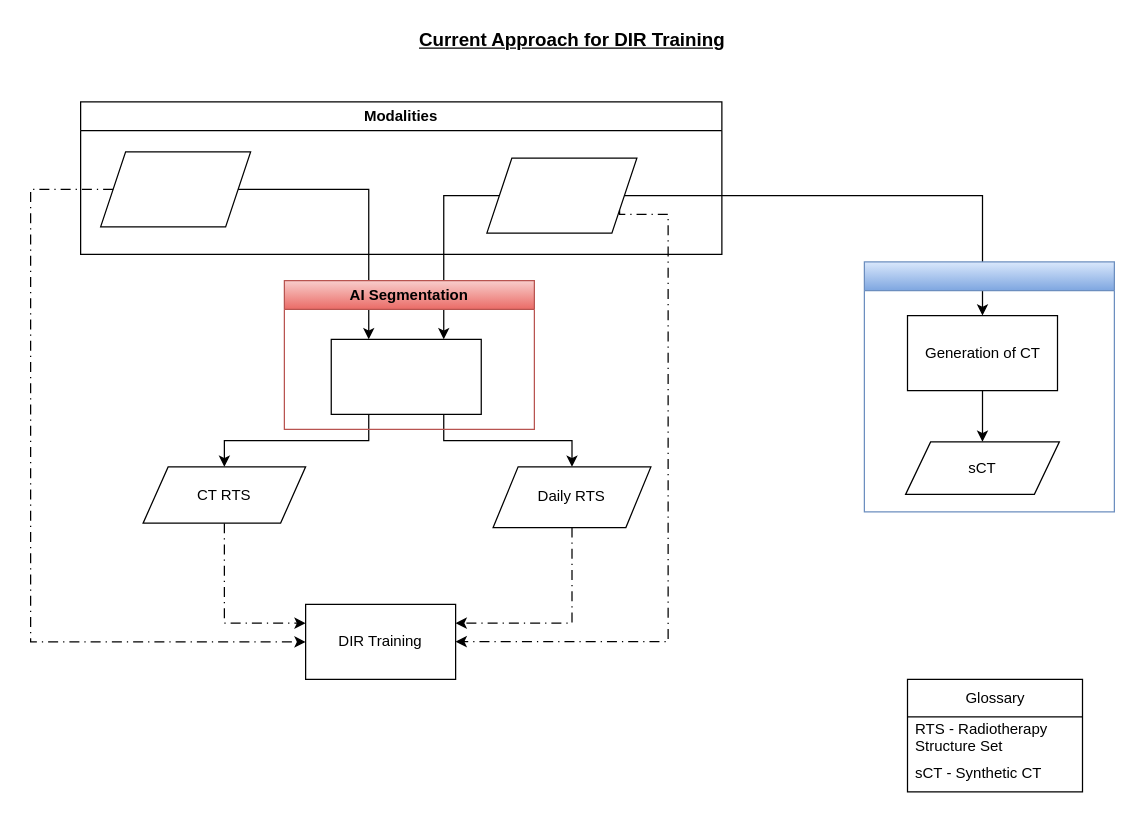
Some shapes in this 1136 by 814 pixel diagram are drawn without their labels. Here are the shapes that lost their labels. From the top down, the centre of each, then its label:
At pixel 175 189: "(planning) CT".
At pixel 561 195: "CBCT".
At pixel 405 376: "Segmentation(U-Net)".
At pixel 988 386: "Synthetic CT generation".
